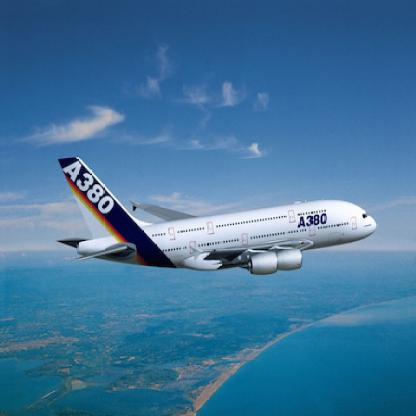CIV_Plane: (47, 153, 380, 289)
